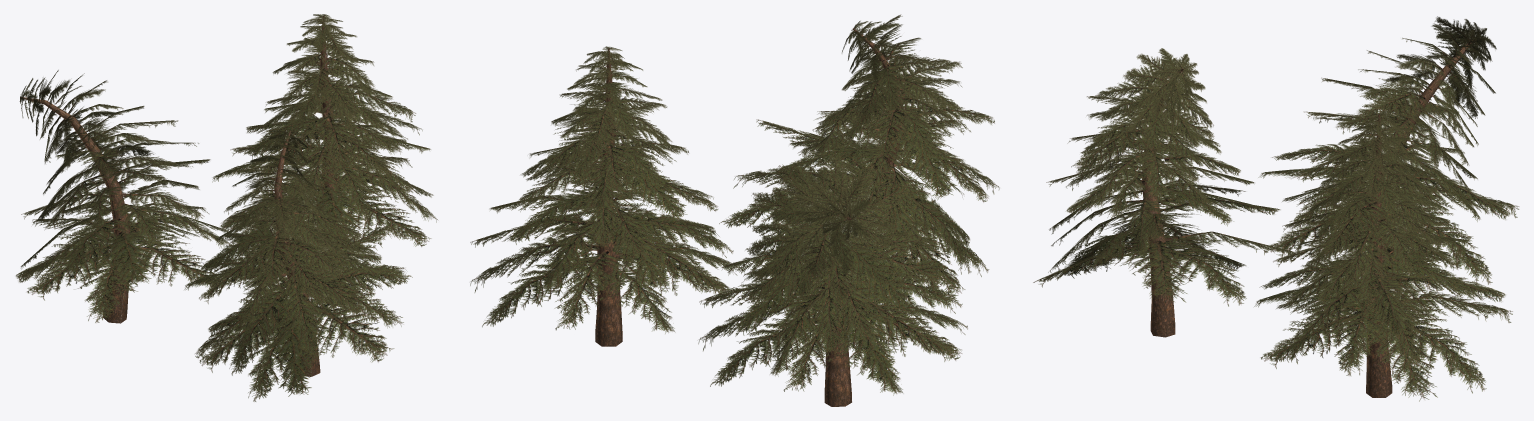
File: fab_pines.glb
The picture shows the model from 3 angles, left to right: view 1: azimuth 30°, elevation 25°; view 2: azimuth 150°, elevation 25°; view 3: azimuth 270°, elevation 25°; orthographic projection. The views are drawn at different scales.
Parts seen in each view (by area): view 1: pine_tree.002, pine_tree.001, pine_tree; view 2: pine_tree.001, pine_tree, pine_tree.002; view 3: pine_tree, pine_tree.002, pine_tree.001.
Boxes of the visible parts, x1,y1,x2,y2 form: pine_tree.002: (184, 129, 412, 401); pine_tree.001: (16, 70, 230, 323); pine_tree: (212, 14, 437, 250); pine_tree.001: (698, 150, 967, 406); pine_tree: (470, 46, 738, 346); pine_tree.002: (719, 14, 999, 303); pine_tree: (1254, 111, 1512, 401); pine_tree.002: (1033, 48, 1293, 337); pine_tree.001: (1258, 16, 1519, 291).
Size of the model in its own units: 1.57 by 0.9449 by 1.5.
1 material, 1 textured.
